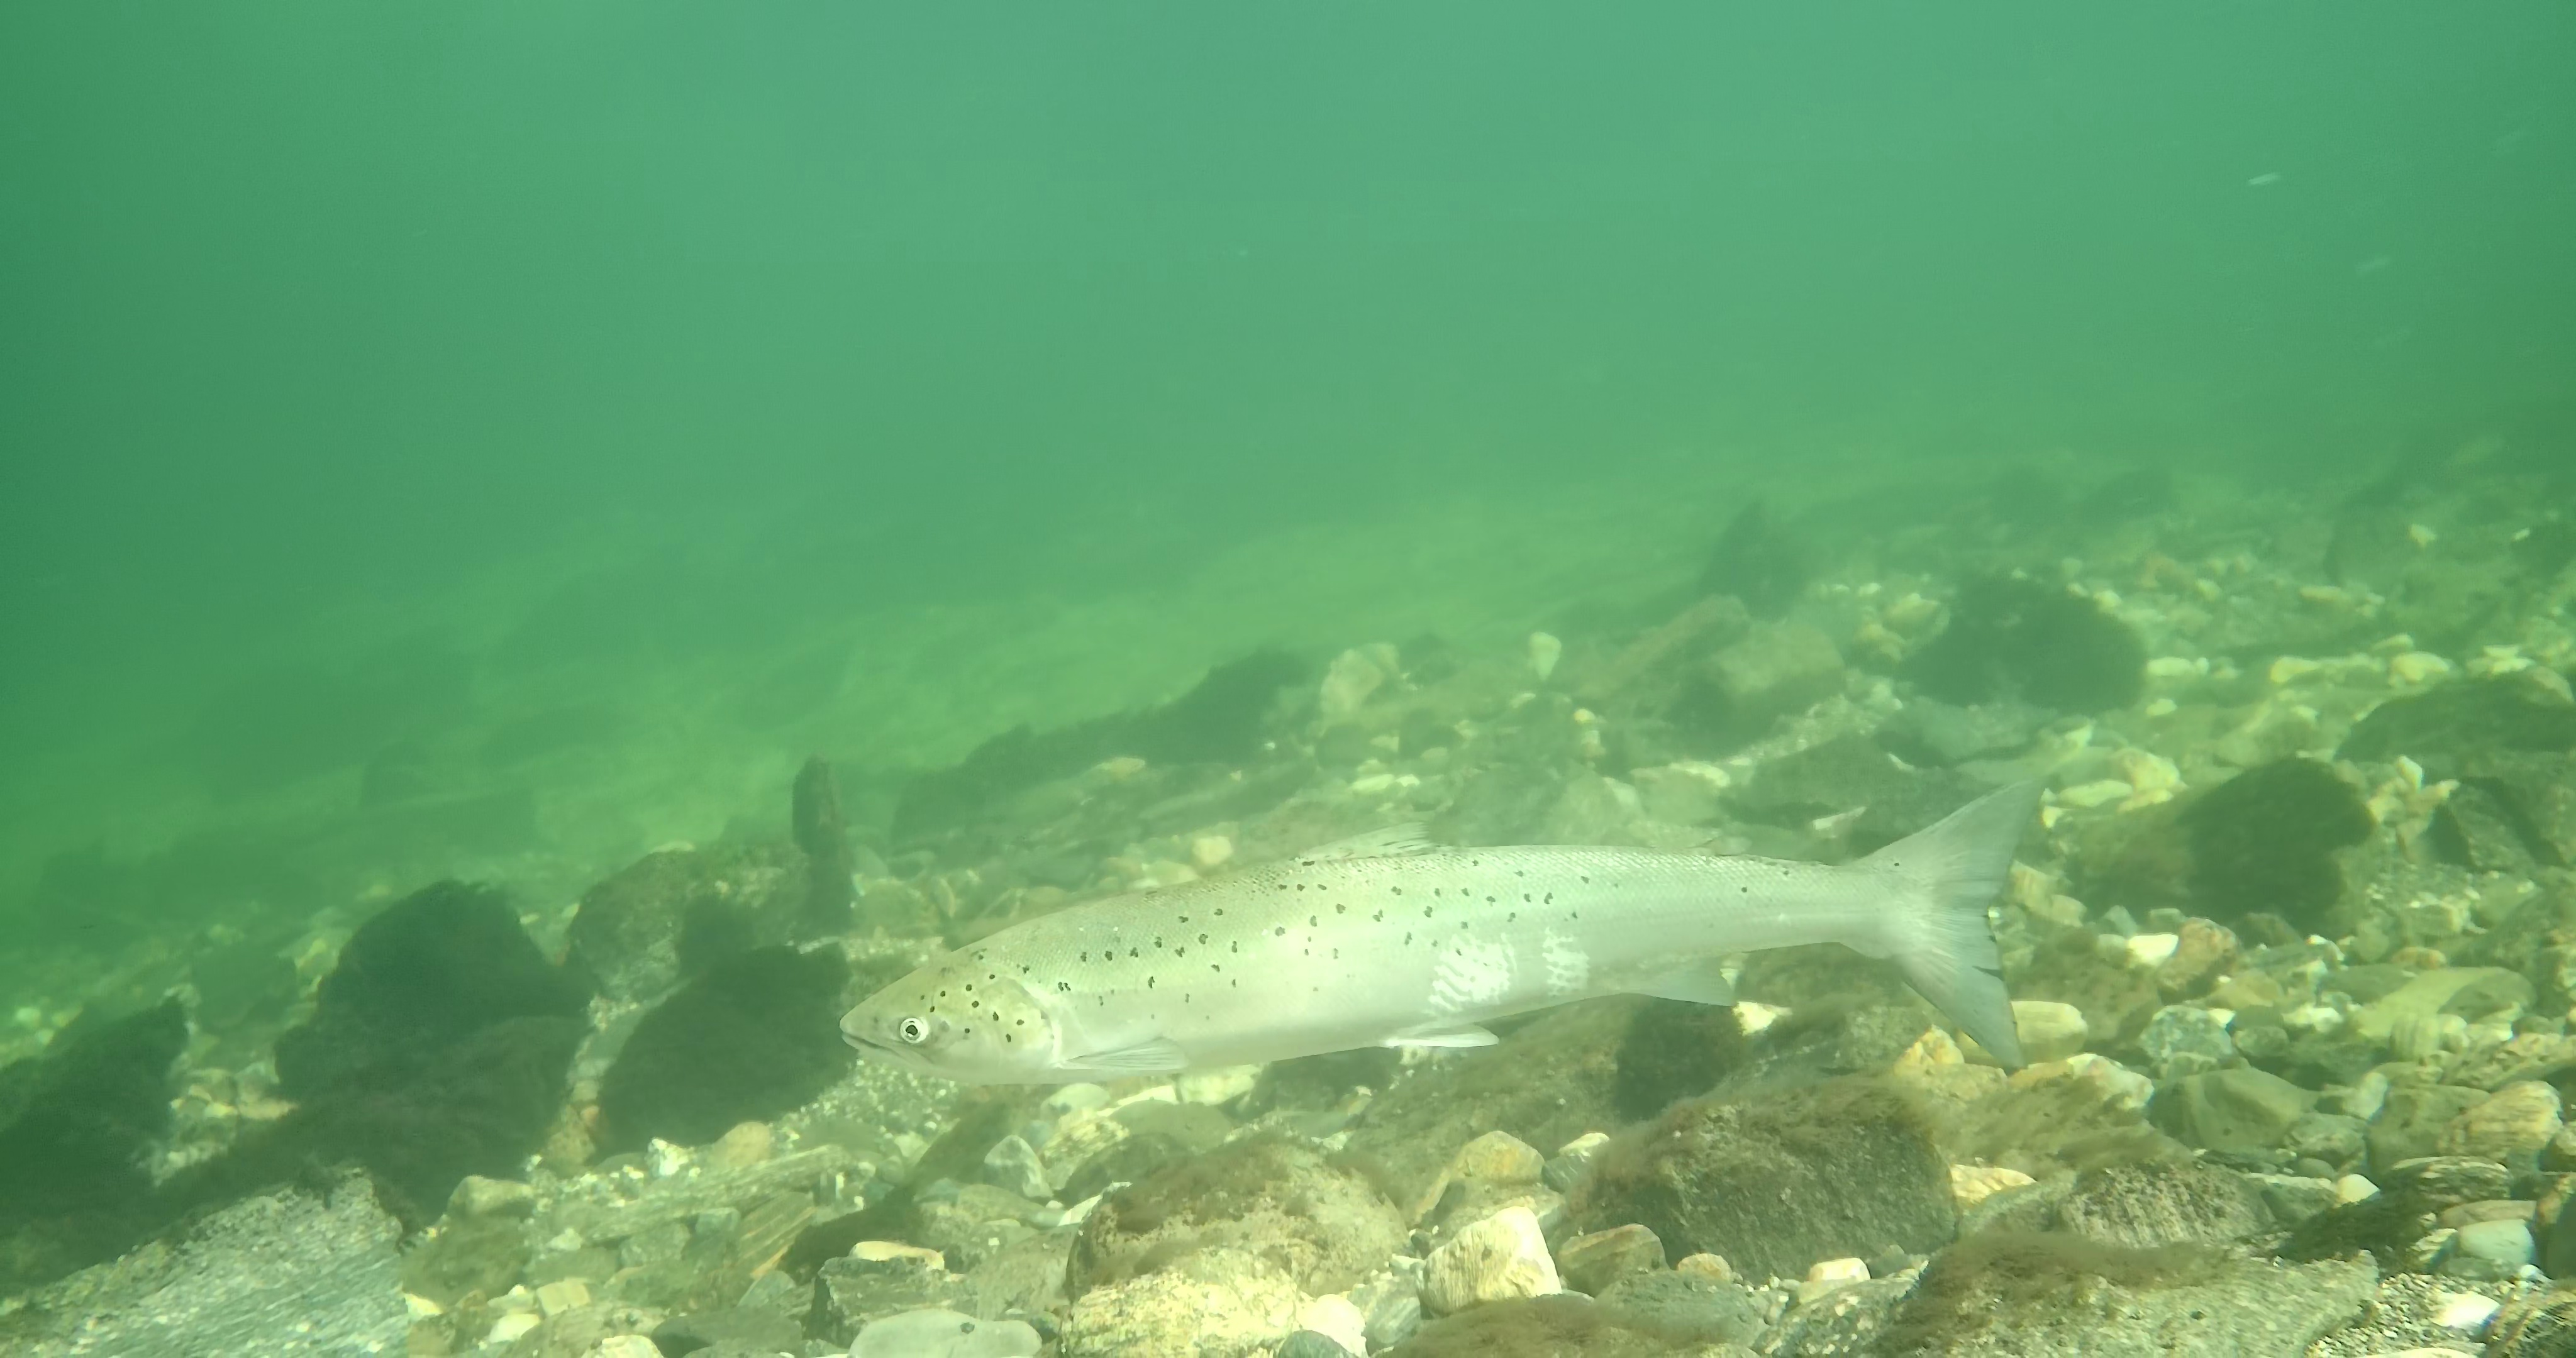salmon: (835, 774, 2056, 1089)
